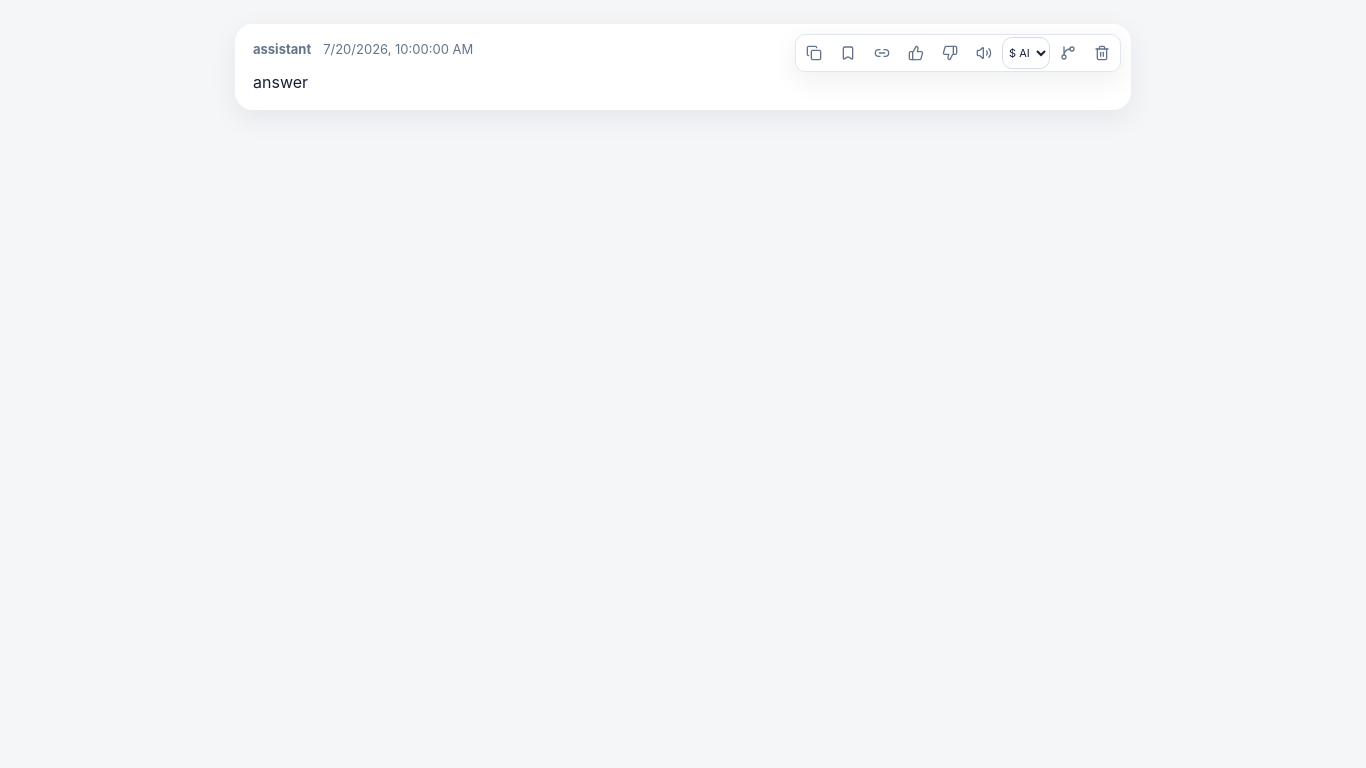
Test case: MessageList › message feedback › clicking away closes the popover and rates down with no reason
The width and height of the screenshot is (1366, 768).
Click the button named "Rate this answer bad" at (950, 53), box [934,37,966,69]
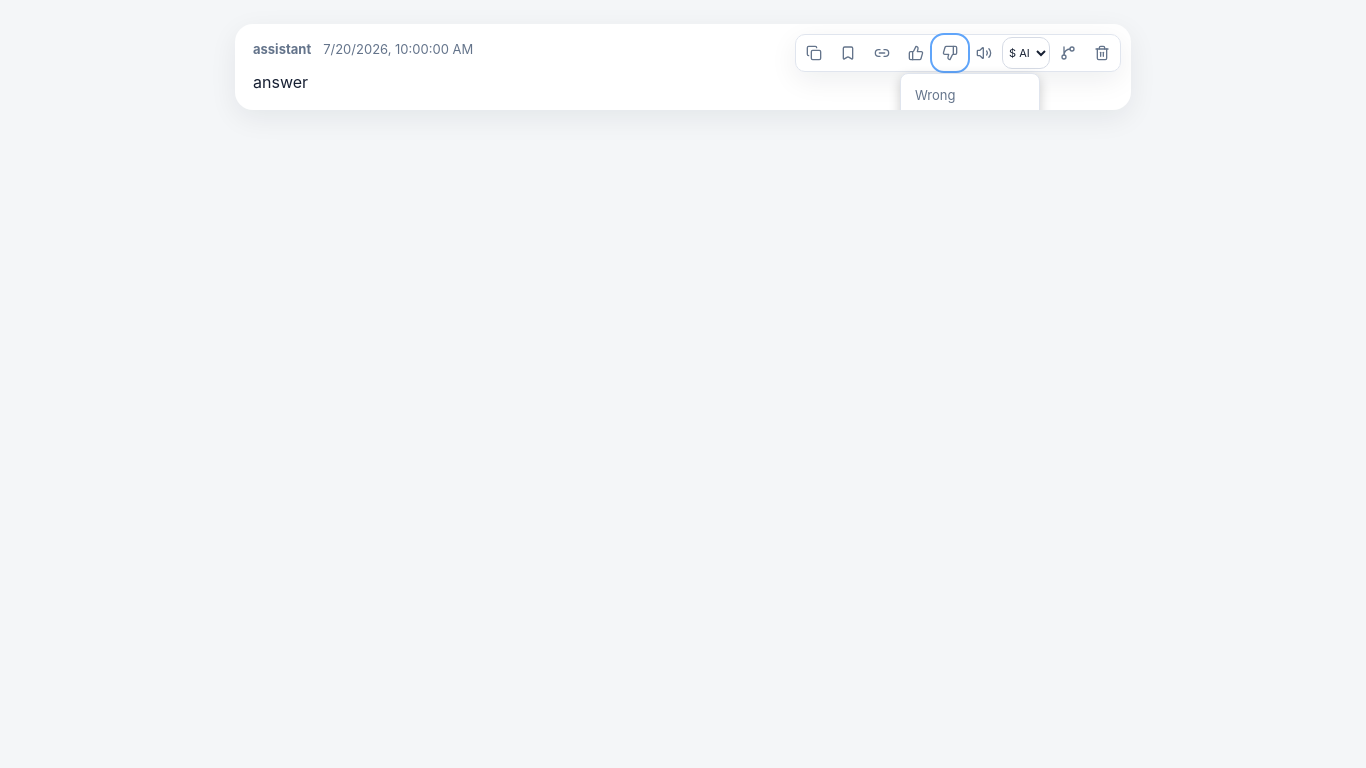
Click the element that starts with "assistant" at (683, 384), box [0,0,1365,767]
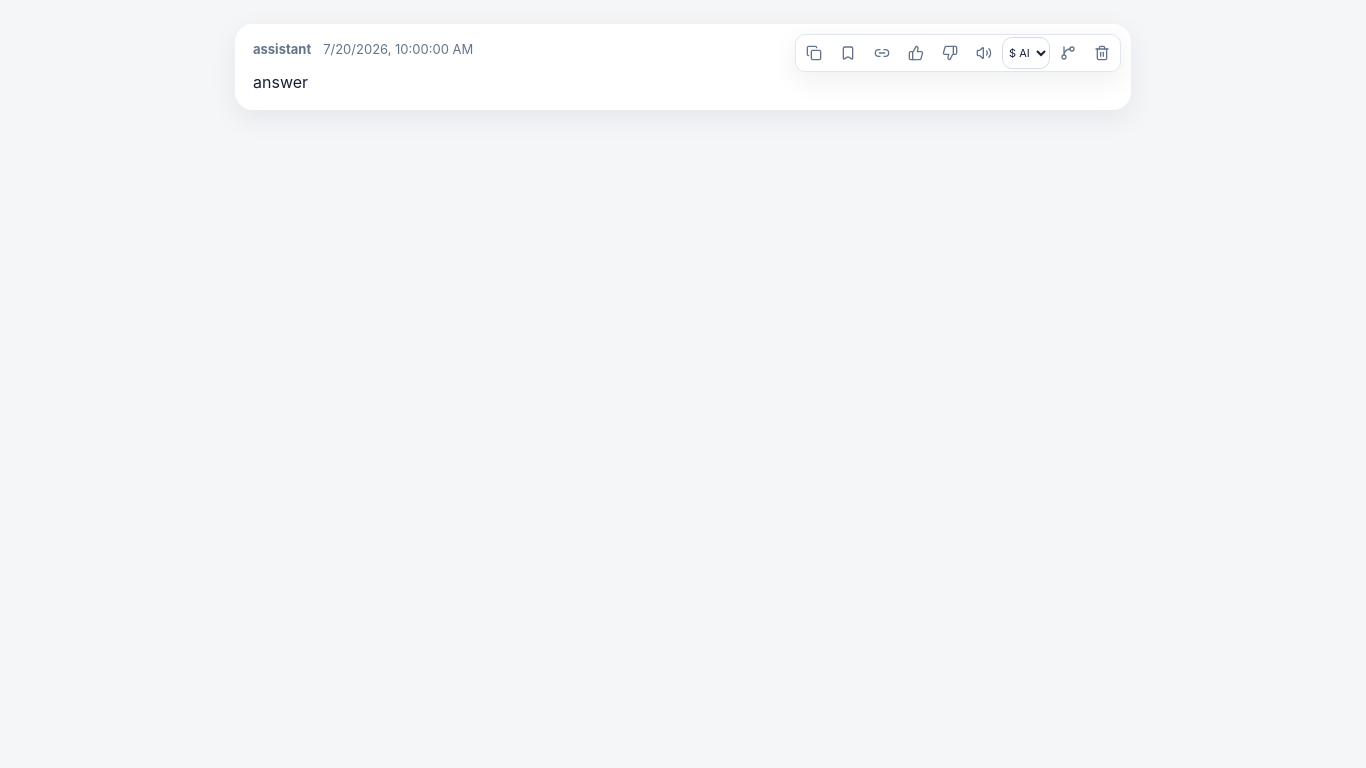
Check: the menu is gone
